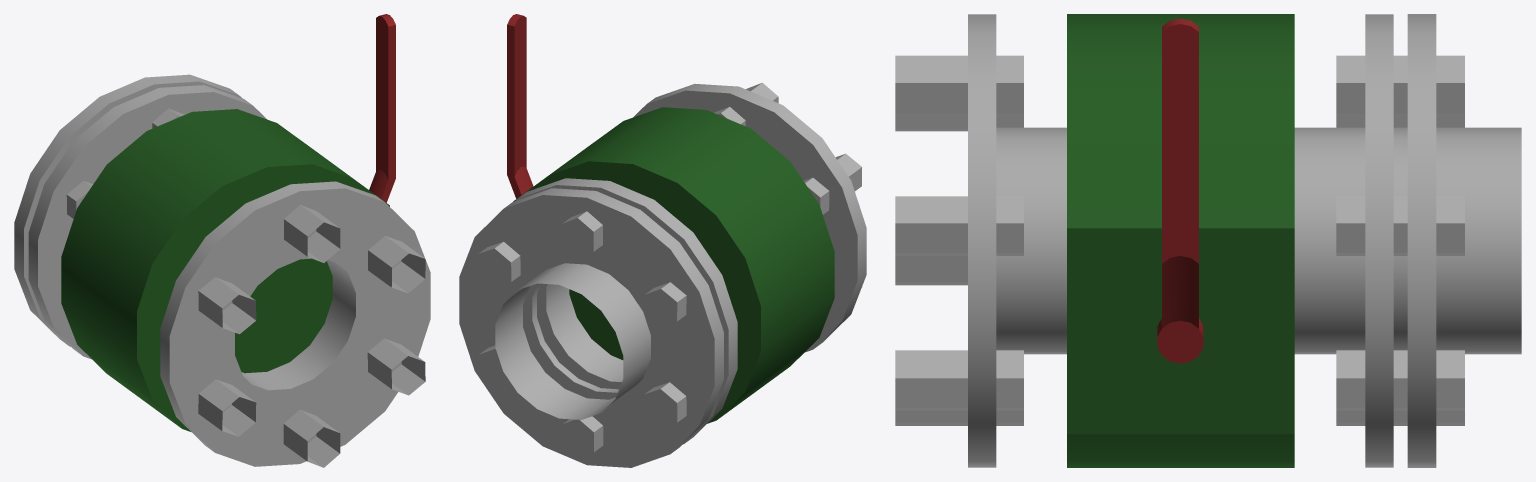
File: Pipe_Socket-U-Shape-Handle.fbx
3 views of the same model, side by side, from view 1: azimuth 30°, elevation 25°; view 2: azimuth 150°, elevation 25°; view 3: azimuth 270°, elevation 25° (orthographic). The views are drawn at different scales.
Parts seen in each view (by area): view 1: Pipe_Socket-U-Shape-Handle_16cm, Handle_Big; view 2: Pipe_Socket-U-Shape-Handle_16cm, Handle_Big; view 3: Pipe_Socket-U-Shape-Handle_16cm, Handle_Big.
Boxes of the visible parts, <box> form: Pipe_Socket-U-Shape-Handle_16cm: <box>14,74,430,467</box>; Handle_Big: <box>369,14,395,202</box>; Pipe_Socket-U-Shape-Handle_16cm: <box>459,82,866,467</box>; Handle_Big: <box>507,14,533,198</box>; Pipe_Socket-U-Shape-Handle_16cm: <box>895,14,1521,467</box>; Handle_Big: <box>1157,18,1203,363</box>.
Size of the model in its own units: 17.82 by 21 by 22.03.
